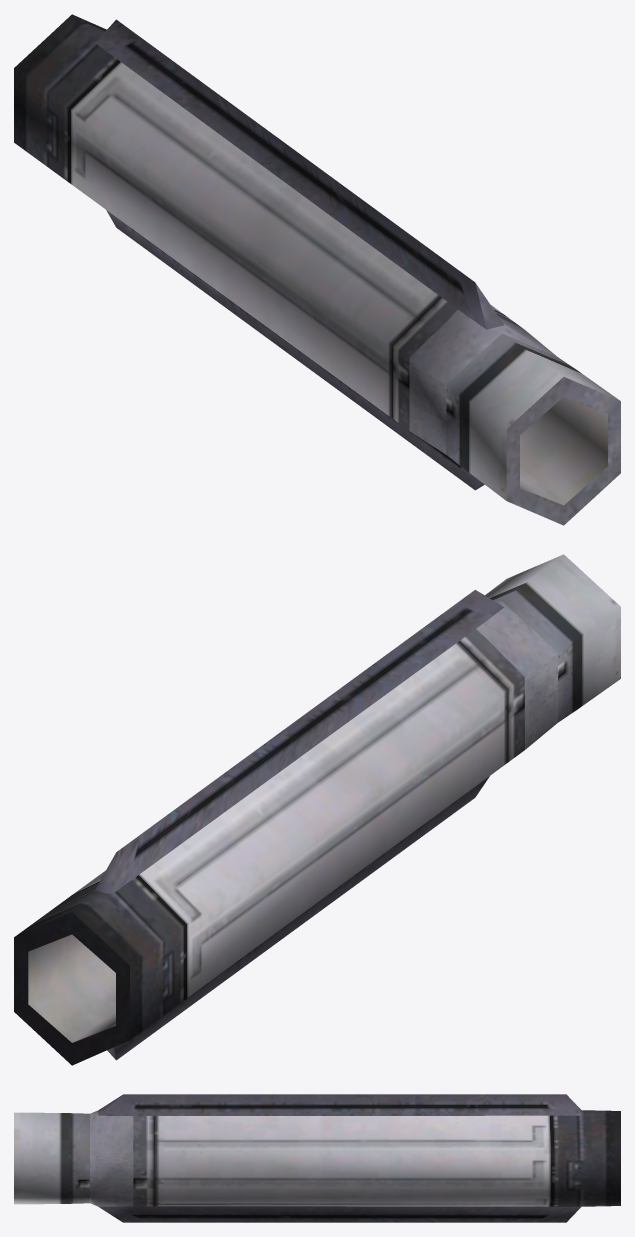
File: eqp_comp_missile_launcher_l2.fbx
The picture shows the model from 3 angles, top to bottom: view 1: azimuth 30°, elevation 25°; view 2: azimuth 150°, elevation 25°; view 3: azimuth 270°, elevation 25°; orthographic projection. The views are drawn at different scales.
Visible parts, largest first — view 1: mesh_node; view 2: mesh_node; view 3: mesh_node.
Part boxes in pixels (x1,y1,x2,y2): mesh_node: (14,14,620,525); mesh_node: (14,554,620,1065); mesh_node: (14,1094,620,1222).
Size of the model in its own units: 0.2728 by 0.4674 by 2.
1 material, 1 textured.
